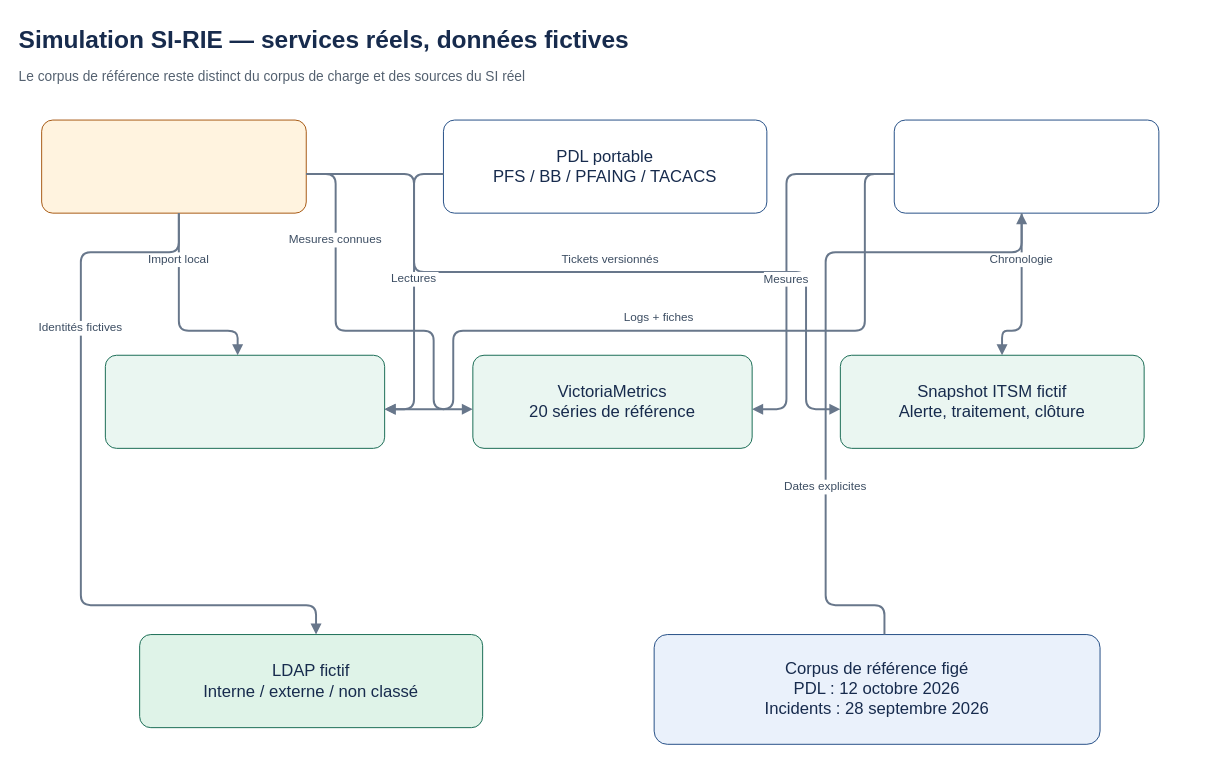
The diagram is 1219 pixels wide and 761 high, and some of its shapes have lost their labels. The centre of each missing label's shape, as x and y in pixels:
Incidents Calculs et preuves: (1026,166)
OpenSearch Logs PDL + Incidents: (244,401)
Préparation contrôlée Fixtures et manifeste: (173,166)
